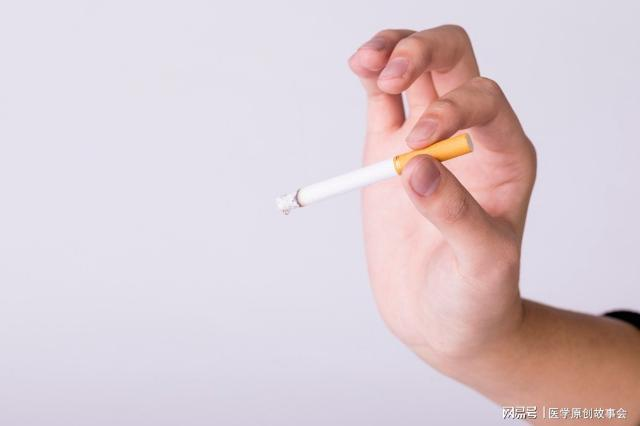Smoking: (270, 131, 474, 219)
